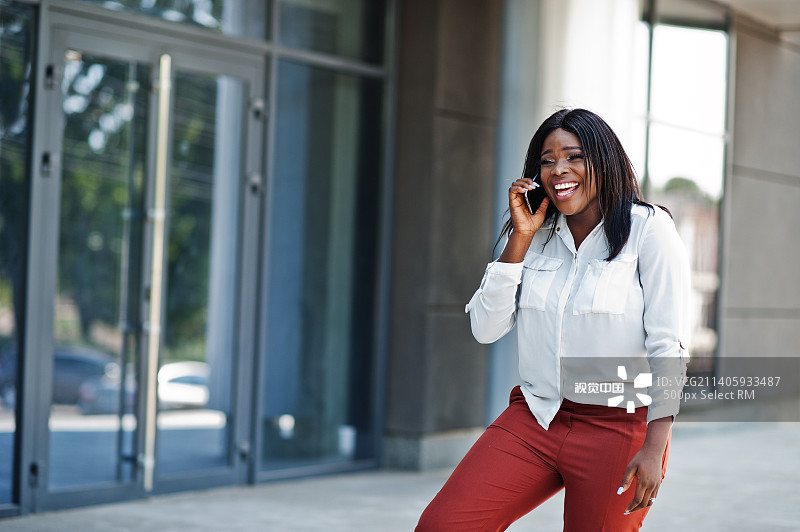calling: (498, 166, 564, 247)
no-phone: (611, 434, 689, 518)
